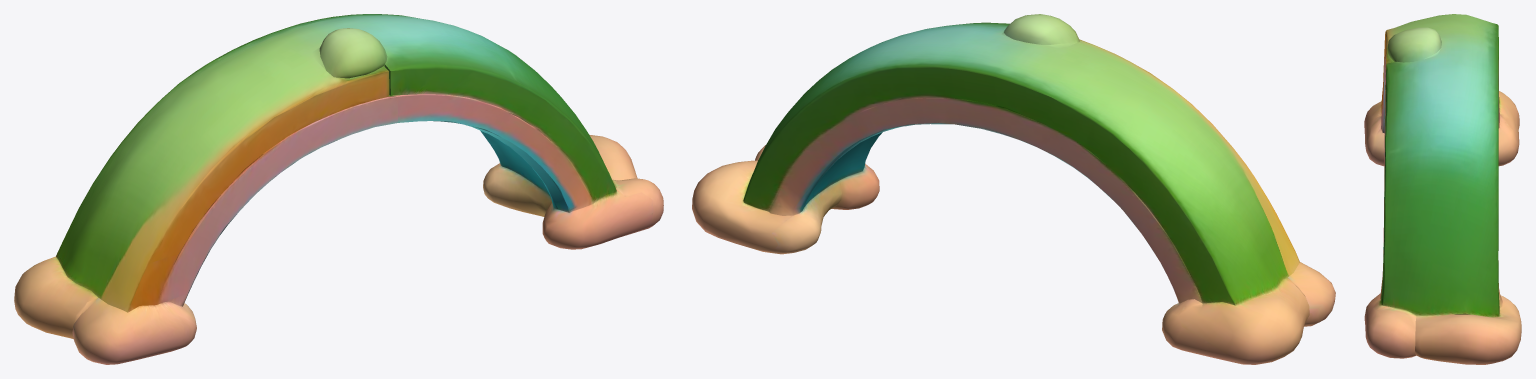
File: m2RainbowBridge.glb
3 renders of one model, left to right at view 1: azimuth 30°, elevation 25°; view 2: azimuth 150°, elevation 25°; view 3: azimuth 270°, elevation 25°, orthographic. The views are drawn at different scales.
Parts seen in each view (by area): view 1: model; view 2: model; view 3: model.
Boxes of the visible parts, bbox=[...] form: model: bbox=[14, 14, 663, 364]; model: bbox=[692, 14, 1335, 364]; model: bbox=[1364, 14, 1521, 364].
Size of the model in its own units: 1.9 by 0.7578 by 0.5023.
1 material, 1 textured.
